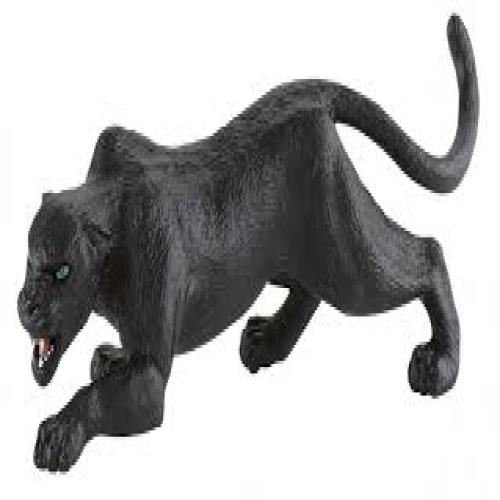panther-endangered: (14, 13, 481, 476)
